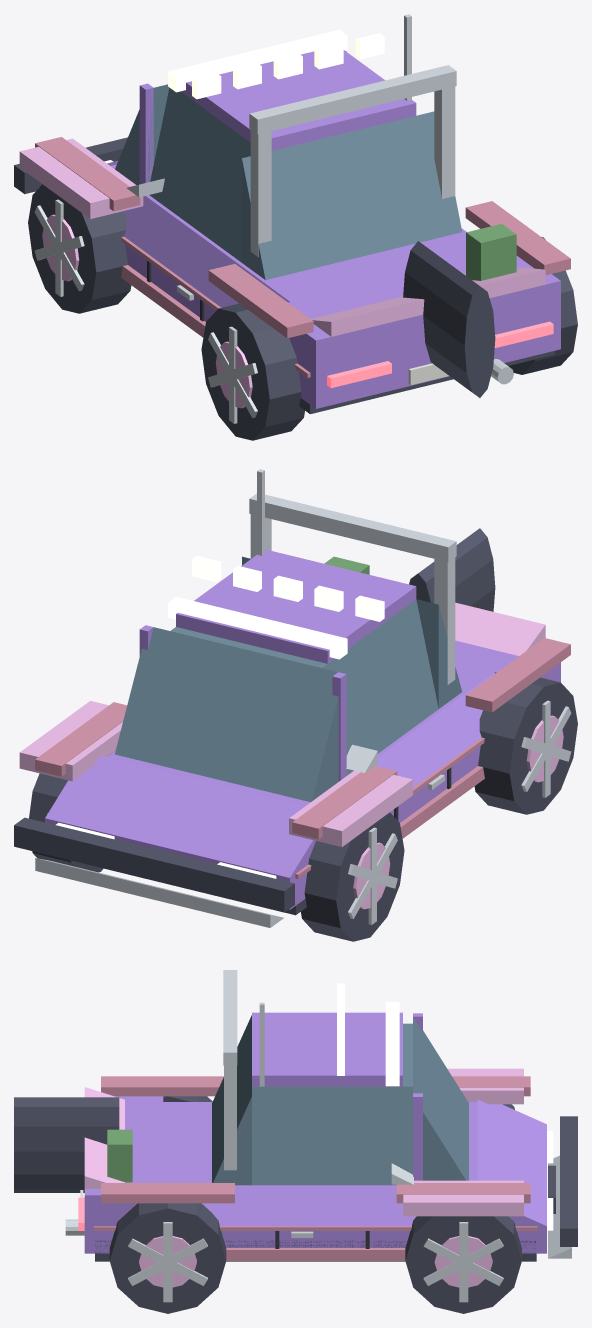
File: trail_tornado.glb
3 views of the same model, one above another, from view 1: azimuth 30°, elevation 25°; view 2: azimuth 150°, elevation 25°; view 3: azimuth 270°, elevation 25° (orthographic). The views are drawn at different scales.
Visible parts, largest first — view 1: RearWindow.165, CabinSideL.062, Tail.065, Roof.265, SpareTyre.020, Wheel_RL.225, Wheel_FL.225, Body.265, ShoulderL.062, BodyUpper.062, RollBar.058, Ducktail.048 (+30 smaller); view 2: Windshield.165, Nose.062, Roof.265, CabinSideL.062, BashBar.058, Wheel_RL.225, Wheel_FL.225, ShoulderL.062, RollBar.058, Bumper.261, Fender-1.058, SpareTyre.020 (+29 smaller); view 3: CabinSideR.062, Roof.265, SpareTyre.020, Wheel_RR.225, ShoulderR.062, Wheel_FR.225, Nose.062, Windshield.165, BodyUpper.062, Tail.065, Body.265, RearWindow.165 (+27 smaller).
Part boxes in pixels (x1,y1,x2,y2): RearWindow.165: [242, 111, 461, 279]; CabinSideL.062: [149, 87, 250, 262]; Tail.065: [288, 256, 560, 376]; Roof.265: [181, 50, 416, 150]; SpareTyre.020: [403, 241, 495, 397]; Wheel_RL.225: [201, 303, 304, 440]; Wheel_FL.225: [28, 184, 131, 313]; Body.265: [125, 245, 560, 408]; ShoulderL.062: [123, 196, 289, 307]; BodyUpper.062: [111, 164, 466, 301]; RollBar.058: [249, 65, 456, 134]; Ducktail.048: [311, 267, 545, 336]; Windshield.165: [115, 627, 338, 802]; Nose.062: [45, 755, 315, 877]; Roof.265: [176, 549, 416, 663]; CabinSideL.062: [322, 599, 438, 775]; BashBar.058: [14, 817, 294, 912]; Wheel_RL.225: [474, 677, 577, 814]; Wheel_FL.225: [301, 812, 404, 941]; ShoulderL.062: [375, 672, 495, 787]; RollBar.058: [249, 493, 456, 562]; Bumper.261: [35, 858, 283, 927]; Fender-1.058: [289, 770, 412, 846]; SpareTyre.020: [409, 528, 495, 611]; CabinSideR.062: [252, 1086, 412, 1185]; Roof.265: [252, 1012, 402, 1086]; SpareTyre.020: [14, 1097, 119, 1192]; Wheel_RR.225: [109, 1203, 226, 1313]; ShoulderR.062: [202, 1186, 416, 1226]; Wheel_FR.225: [405, 1216, 521, 1313]; Nose.062: [477, 1099, 546, 1226]; Windshield.165: [413, 1017, 468, 1180]; BodyUpper.062: [163, 1102, 477, 1186]; Tail.065: [84, 1096, 163, 1226]; Body.265: [84, 1226, 546, 1253]; RearWindow.165: [212, 1015, 251, 1185].
Size of the model in its own units: 3.16 by 3.04 by 5.61.
